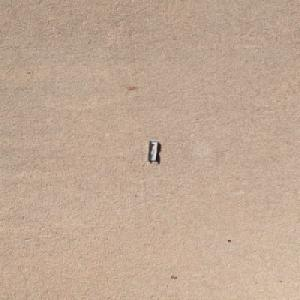ClampPart: (146, 139, 159, 161)
